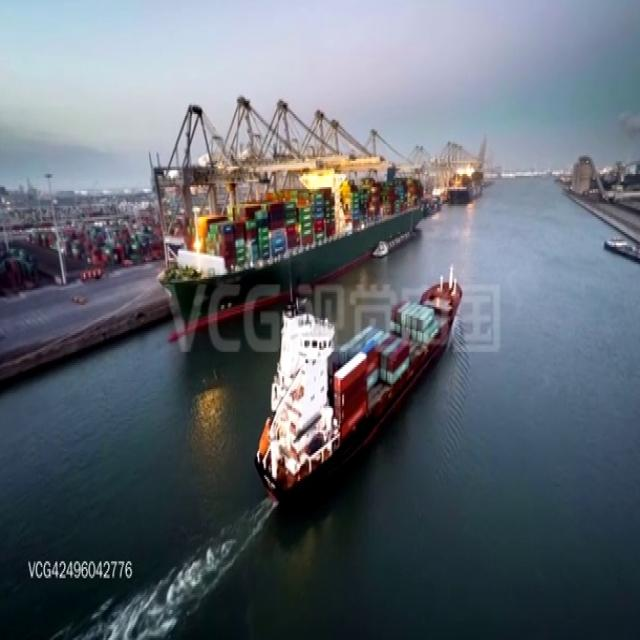cargoship: (133, 146, 441, 281), (260, 303, 484, 483)
